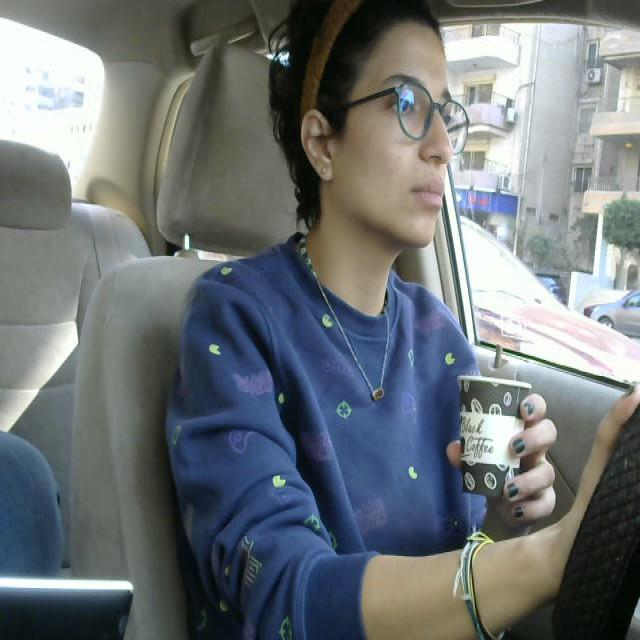Seatbelt: (452, 371, 533, 509)
